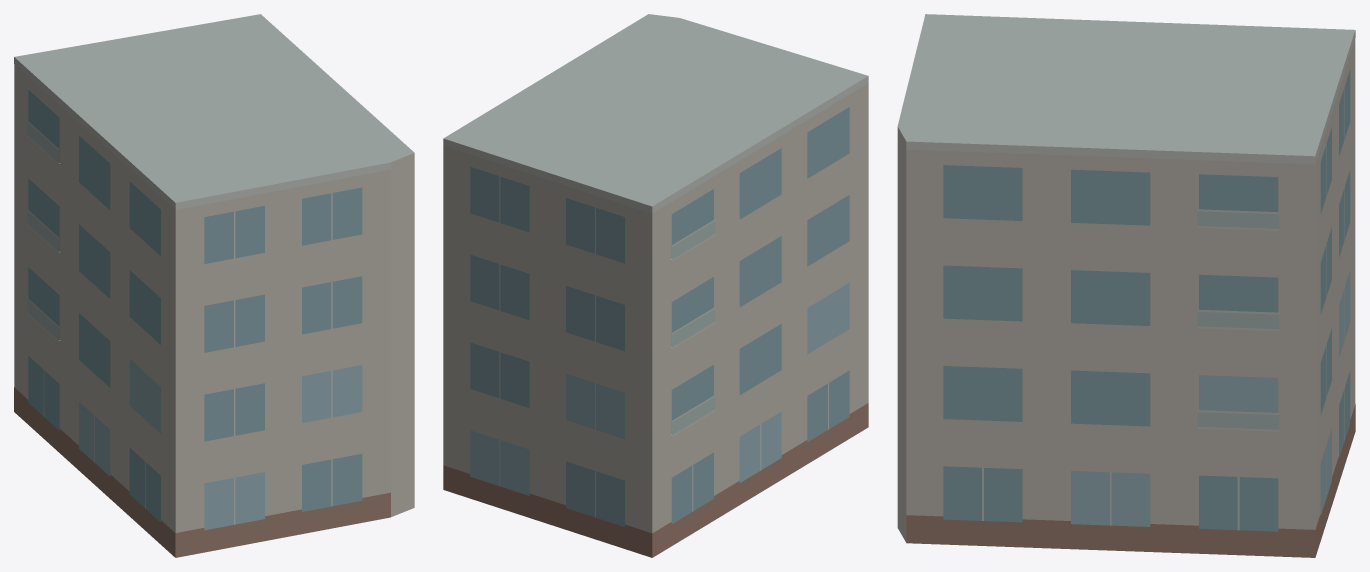
Rendered from survey-upis-32685401.glb.
3 renders of one model, left to right at view 1: azimuth 30°, elevation 25°; view 2: azimuth 150°, elevation 25°; view 3: azimuth 270°, elevation 25°, orthographic. The views are drawn at different scales.
Visible parts, largest first — view 1: survey-upis-32685401.tmp; view 2: survey-upis-32685401.tmp; view 3: survey-upis-32685401.tmp.
Boxes of the visible parts, box(x1,y1,x2,y2) form: survey-upis-32685401.tmp: box(14, 14, 414, 557); survey-upis-32685401.tmp: box(443, 14, 868, 557); survey-upis-32685401.tmp: box(897, 14, 1355, 557).
Size of the model in its own units: 9.27 by 12.2 by 12.61.
